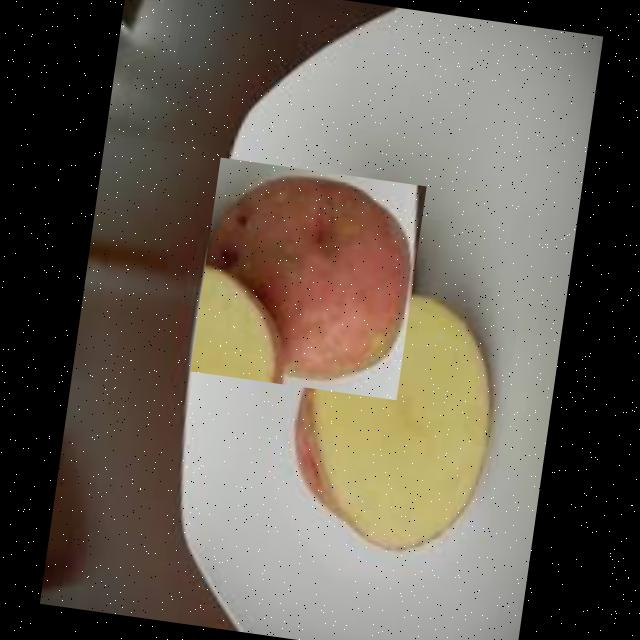Defected potato: (190, 157, 426, 400)
